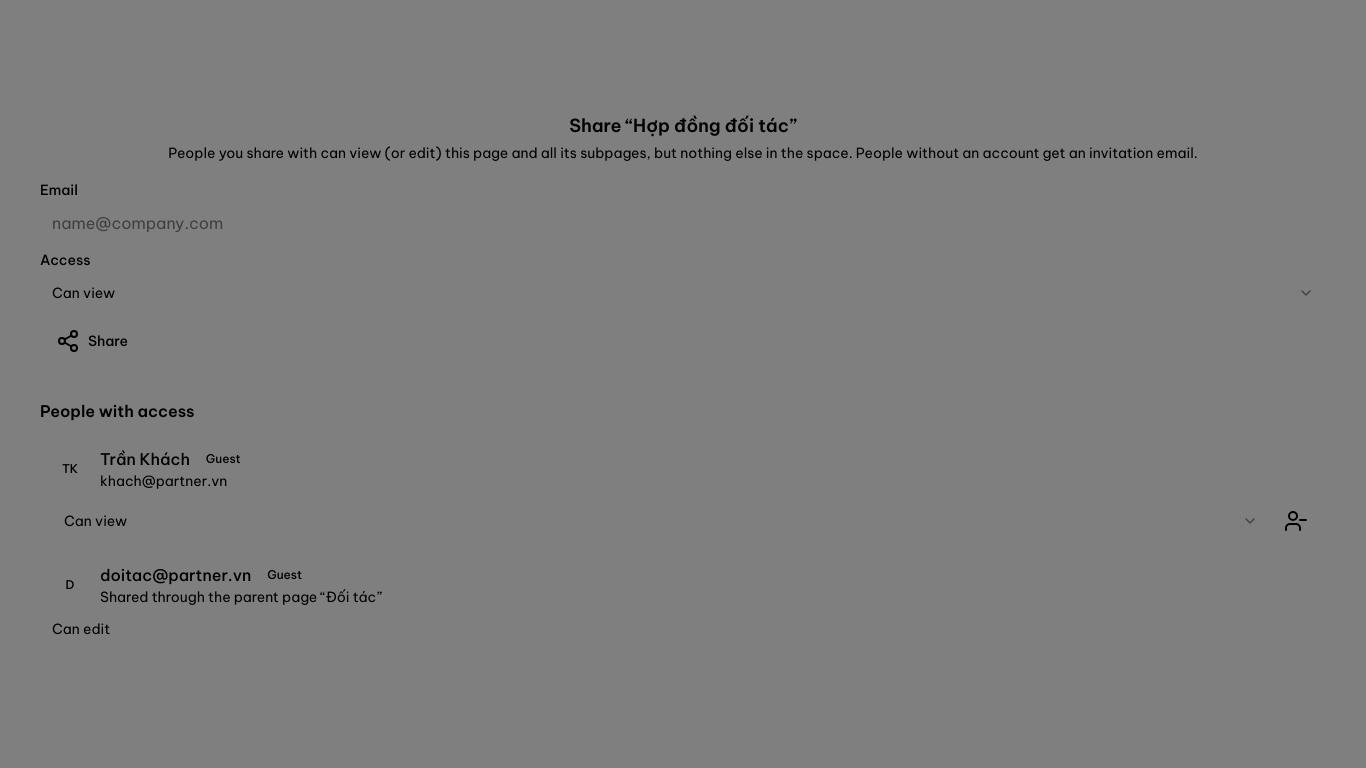
Test: SharePageDialogBody › shows the invite link when the email has no account
Step 1. Type "new@partner.vn" into the field labelled "Email" → (683, 223), box [40, 205, 1326, 241]
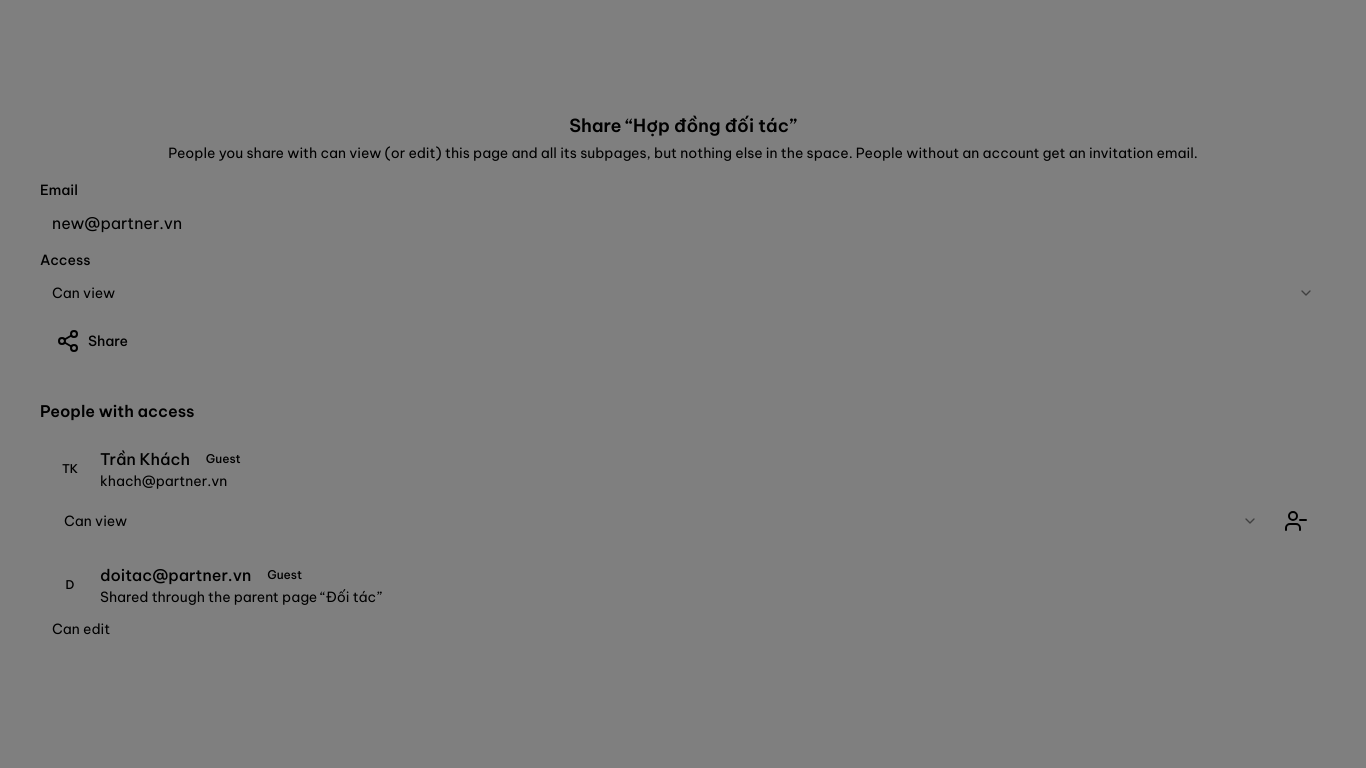
Step 2. Click the button "Share" → (92, 341), box [40, 323, 144, 359]
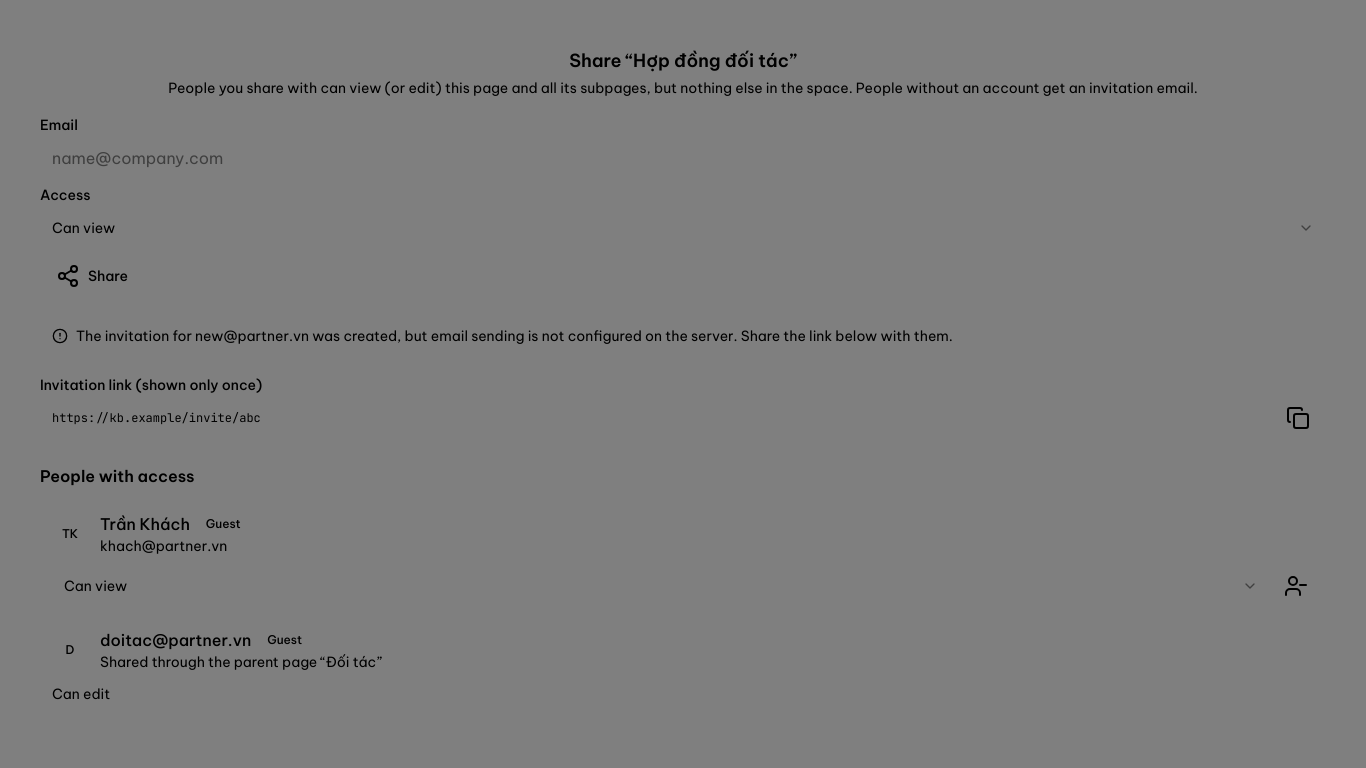
Expected: the field showing "https://kb.example/invite/abc" is shown, [40, 400, 1262, 436]
